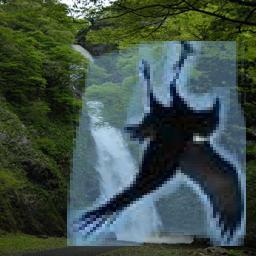Crow: (68, 42, 247, 247)
